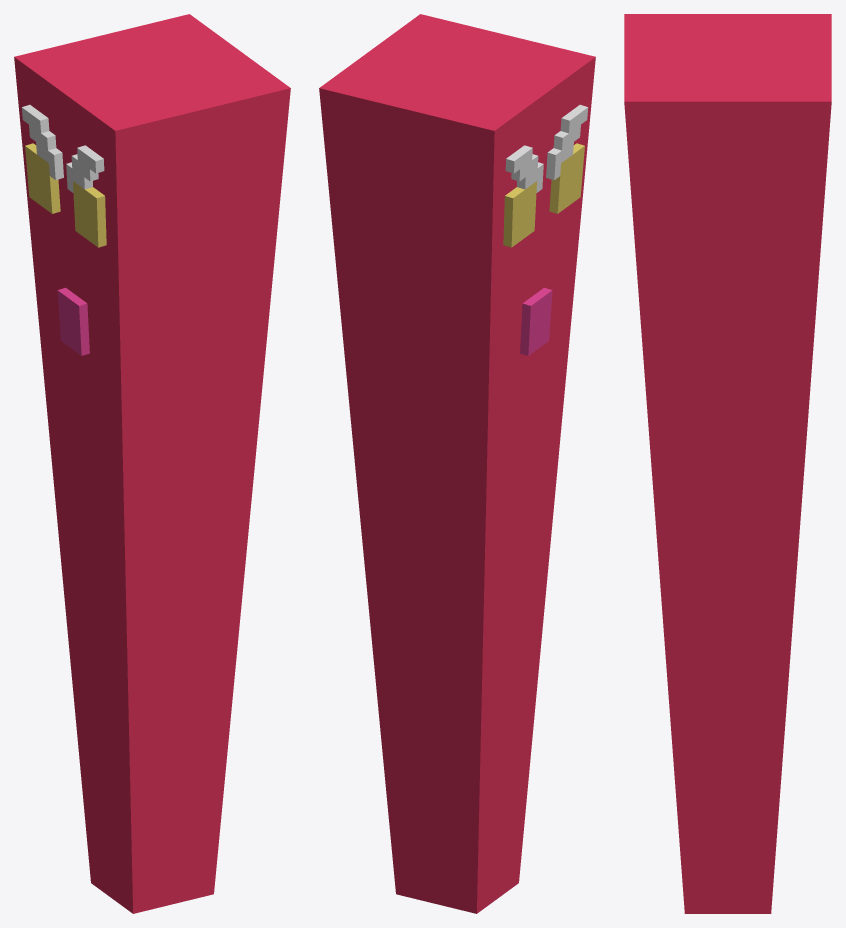
Rendered from EnemyStand.fbx.
3 renders of one model, left to right at view 1: azimuth 30°, elevation 25°; view 2: azimuth 150°, elevation 25°; view 3: azimuth 270°, elevation 25°, orthographic. The views are drawn at different scales.
Visible parts, largest first — view 1: Cube.004; view 2: Cube.004; view 3: Cube.004.
Part boxes in pixels (<box>): Cube.004: <box>14,14,290,913</box>; Cube.004: <box>319,14,595,913</box>; Cube.004: <box>624,14,831,913</box>.
Bounding box in the file's own units: 207 × 889 × 200.
